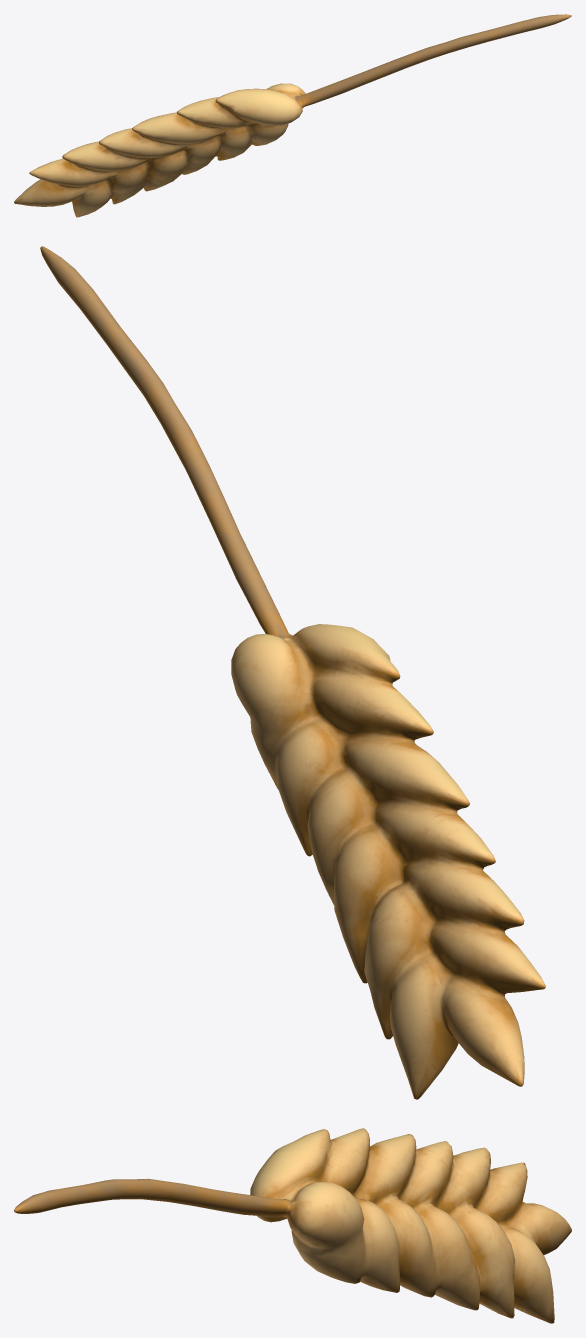
The model's file is 10-Wheat-95636038834319.glb.
3 views of the same model, one above another, from view 1: azimuth 30°, elevation 25°; view 2: azimuth 150°, elevation 25°; view 3: azimuth 270°, elevation 25° (orthographic). The views are drawn at different scales.
Visible parts, largest first — view 1: 10-Wheat-95636038834319; view 2: 10-Wheat-95636038834319; view 3: 10-Wheat-95636038834319.
Boxes of the visible parts, box(x1,y1,x2,y2) form: 10-Wheat-95636038834319: box(14, 14, 571, 217); 10-Wheat-95636038834319: box(40, 246, 545, 1099); 10-Wheat-95636038834319: box(14, 1128, 571, 1323).
Size of the model in its own units: 0.6531 by 0.3622 by 0.4512.
1 material, 1 textured.
